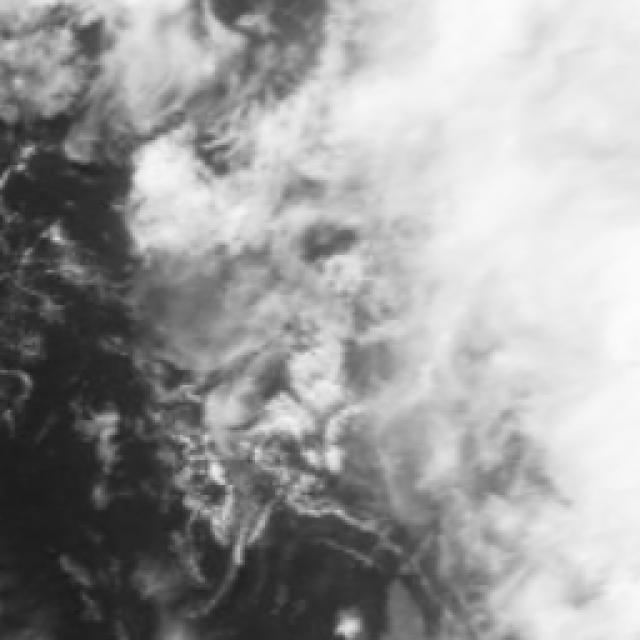CB: (334, 96, 532, 293), (459, 281, 640, 477), (447, 137, 640, 316), (489, 431, 640, 630), (442, 6, 640, 148)
